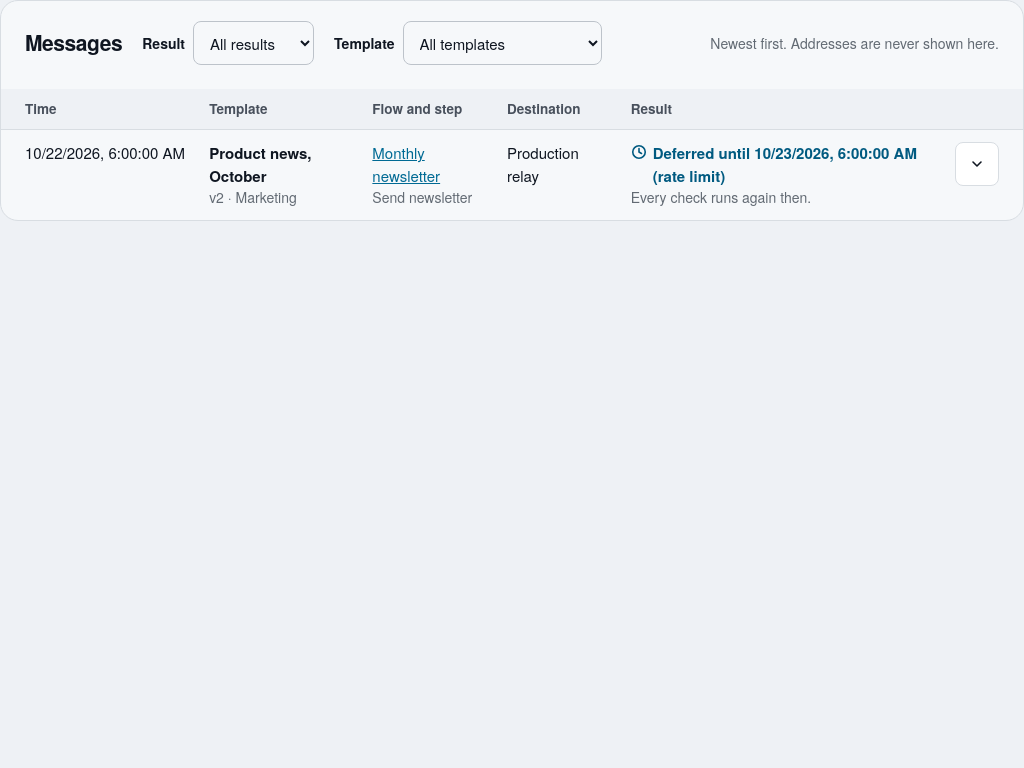
the words of a message › shows a rate-limit hold on the Rate limit check, with the checks before it passed
Click the button named "Show the checks for" at (977, 164), box [955,142,999,186]
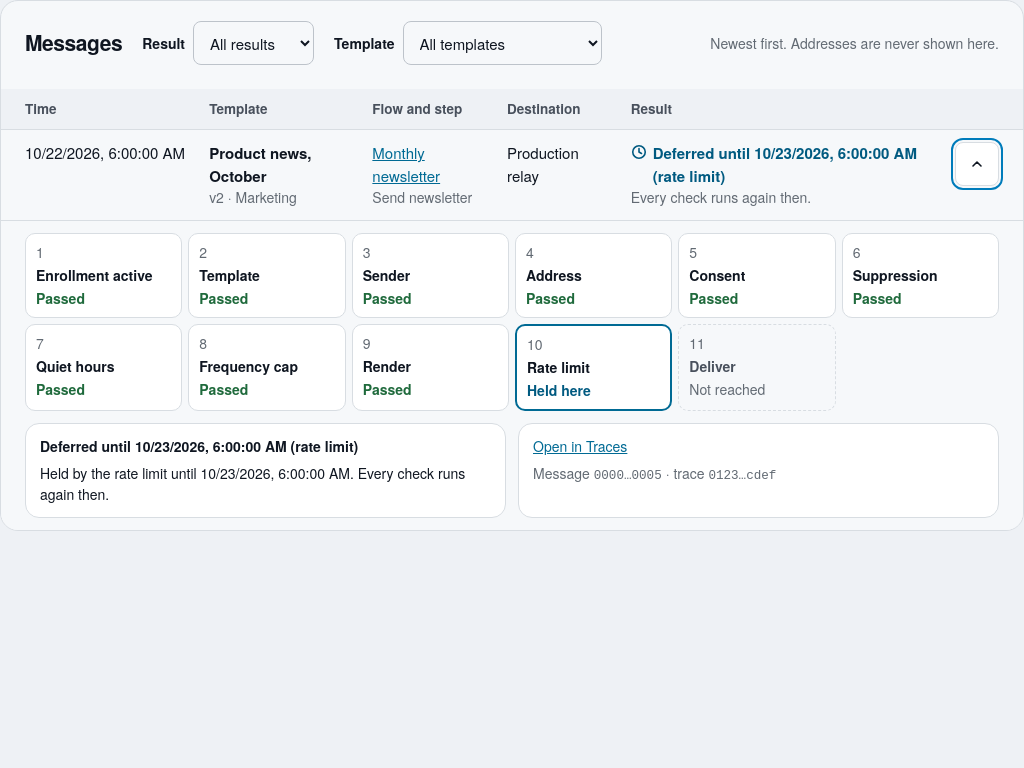
Result: the list item "10 Rate limit Held here" is shown at [515,324,672,411]
